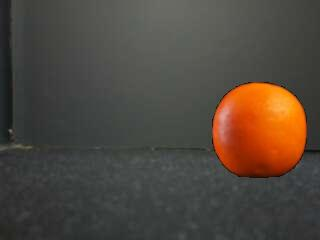Orange: (212, 82, 307, 179)
